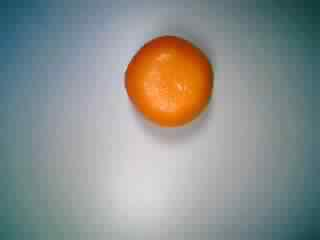orange: (122, 34, 218, 130)
